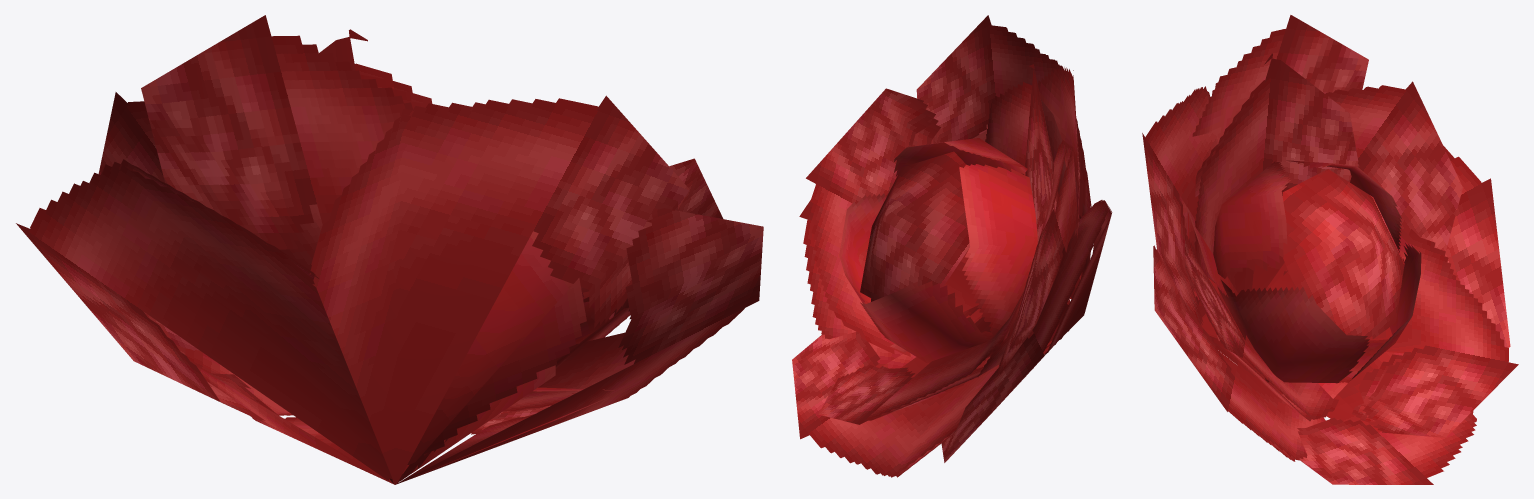
File: F2_Item_Flower_Rose.dae
3 renders of one model, left to right at view 1: azimuth 30°, elevation 25°; view 2: azimuth 150°, elevation 25°; view 3: azimuth 270°, elevation 25°, orthographic. The views are drawn at different scales.
Visible parts, largest first — view 1: _0_0_node; view 2: _0_0_node; view 3: _0_0_node.
Part boxes in pixels (x1,y1,x2,y2): _0_0_node: [16, 15, 763, 484]; _0_0_node: [792, 15, 1112, 477]; _0_0_node: [1142, 15, 1518, 484].
Bounding box in the file's own units: 0.6382 × 0.5942 × 0.5463.
1 material, 1 textured.
